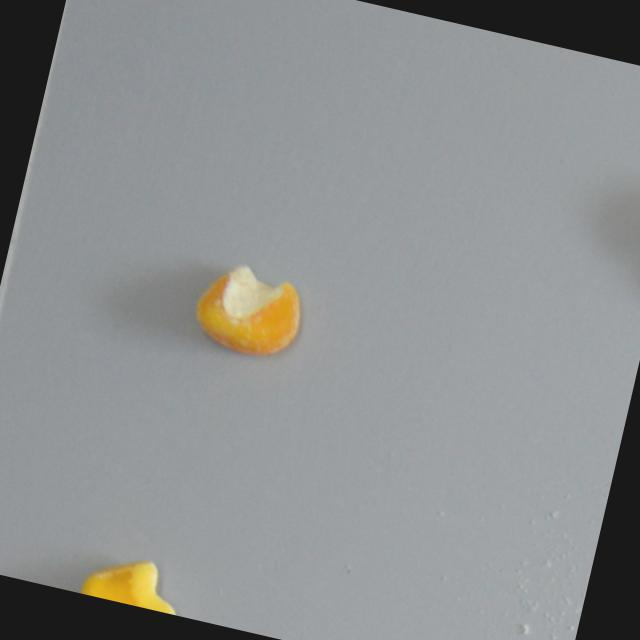no_canjicado: (78, 546, 189, 616)
pelicula: (186, 253, 309, 365)
